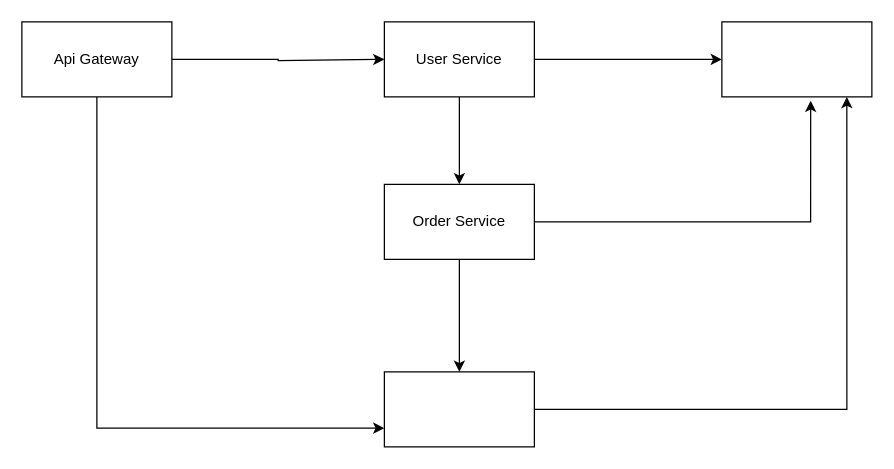
Some shapes in this 894 by 469 pixel diagram are drawn without their labels. The shapes that lost their labels are listed below. From the top down, each one's centre as x and y in pixels, then its label:
[796,59]: Database
[458,409]: Product Service
